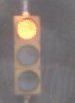Red: (9, 9, 43, 103)
